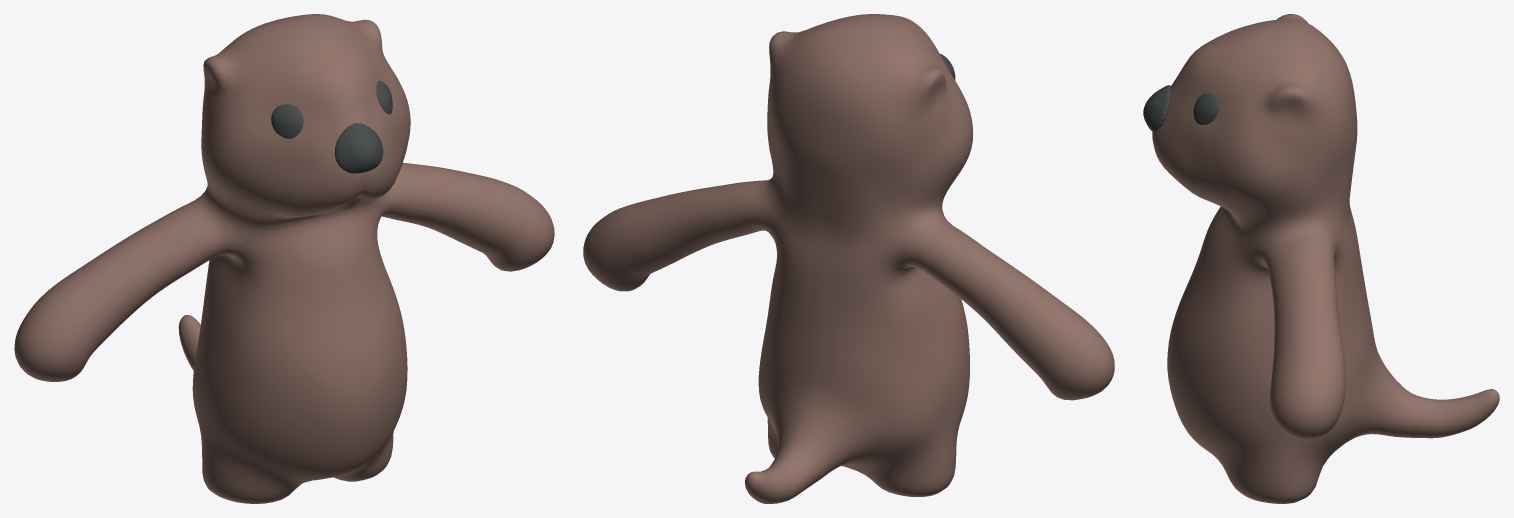
Rendered from IA_loutre.fbx.
3 views of the same model, side by side, from view 1: azimuth 30°, elevation 25°; view 2: azimuth 150°, elevation 25°; view 3: azimuth 270°, elevation 25° (orthographic). The views are drawn at different scales.
Parts seen in each view (by area): view 1: Otter1; view 2: Otter1; view 3: Otter1.
Boxes of the visible parts, x1,y1,x2,y2 form: Otter1: (14, 14, 554, 503); Otter1: (583, 14, 1114, 503); Otter1: (1143, 14, 1499, 503).
Size of the model in its own units: 2.34 by 1.92 by 1.41.
